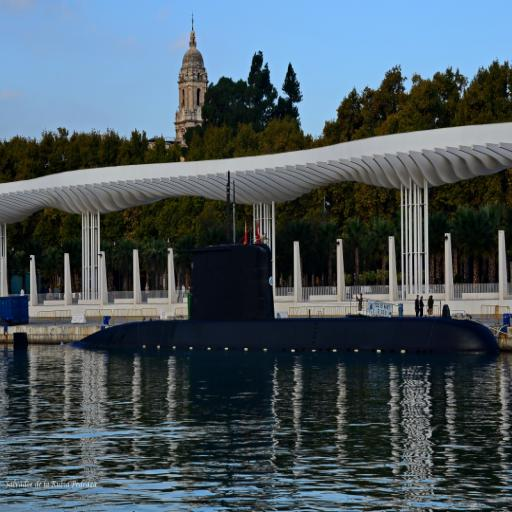submarine: (54, 161, 505, 355)
